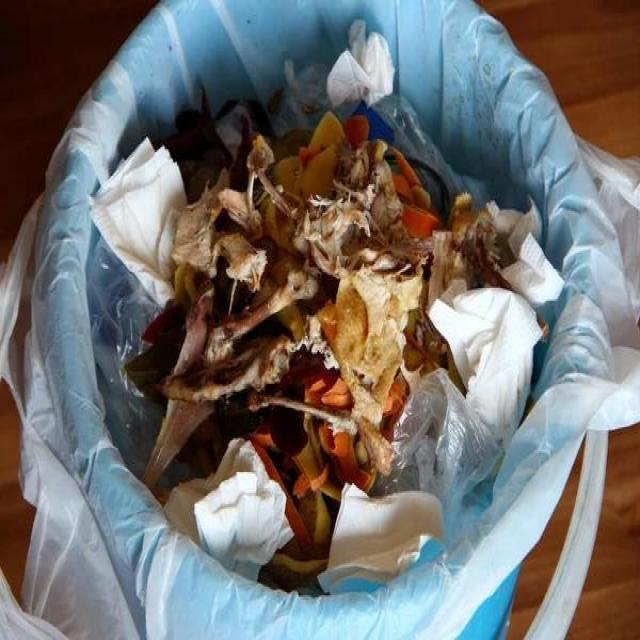Garbage: (86, 0, 558, 603)
contaminated_waste: (429, 233, 564, 425), (429, 285, 542, 441), (91, 139, 186, 307), (321, 486, 442, 585), (372, 96, 460, 194), (326, 19, 394, 108), (270, 60, 331, 136), (509, 199, 541, 256), (332, 101, 365, 121)
